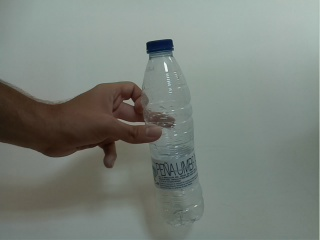botella plastico: (142, 37, 208, 230)
